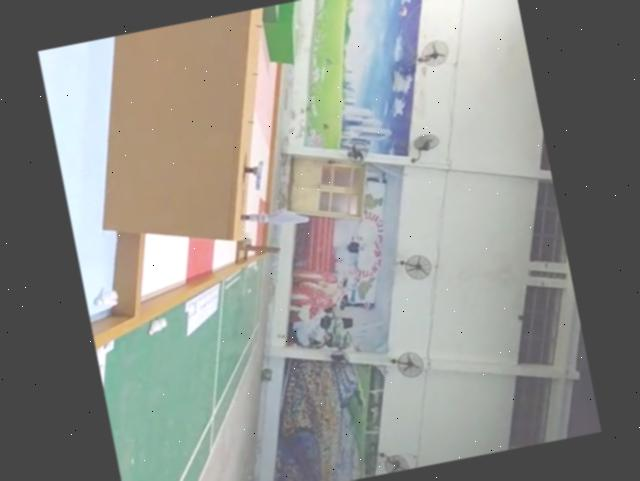Hand: (243, 153, 274, 190)
Sph: (238, 200, 312, 236)
